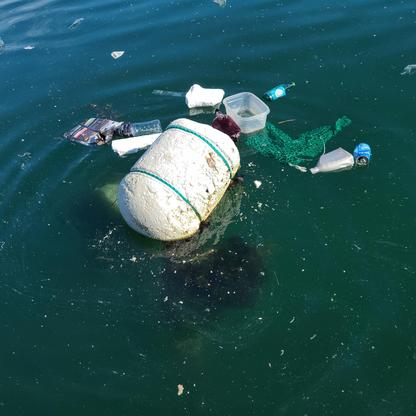can: (352, 140, 371, 165)
foam: (184, 81, 224, 110)
plastic bottle: (113, 118, 162, 132)
